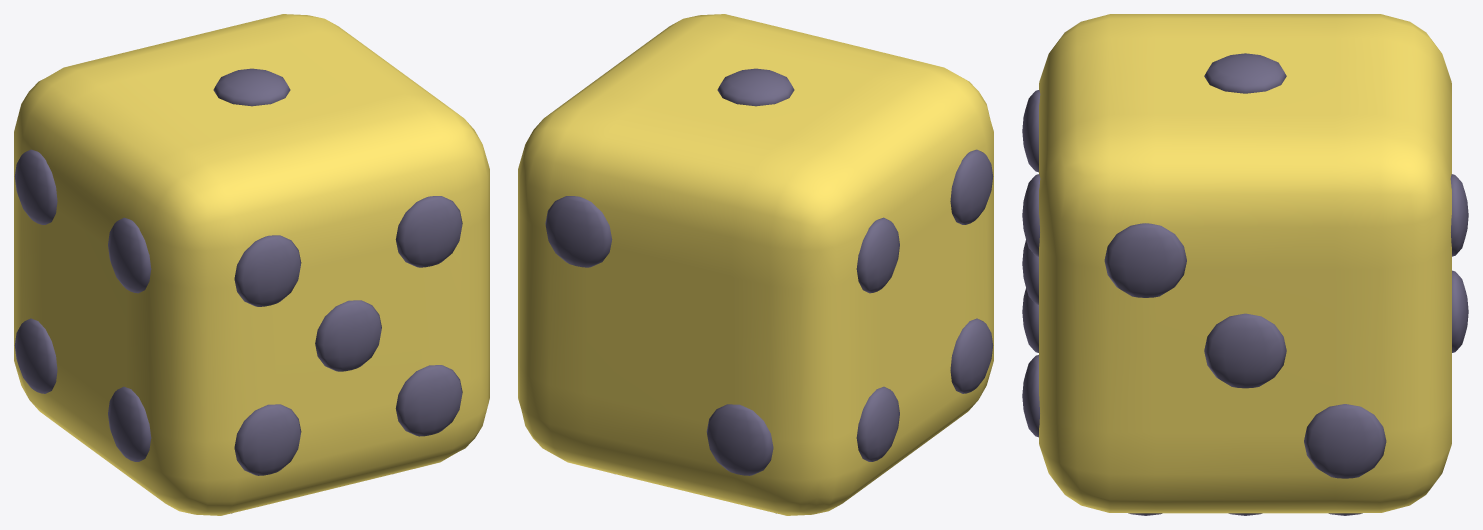
File: DiceDashDie.glb
The picture shows the model from 3 angles, left to right: view 1: azimuth 30°, elevation 25°; view 2: azimuth 150°, elevation 25°; view 3: azimuth 270°, elevation 25°; orthographic projection. The views are drawn at different scales.
Parts seen in each view (by area): view 1: Body, Pips; view 2: Body, Pips; view 3: Body, Pips.
Part boxes in pixels (<box>): Body: <box>14,14,489,515</box>; Pips: <box>14,68,462,513</box>; Body: <box>518,14,993,515</box>; Pips: <box>545,68,993,513</box>; Body: <box>1039,14,1451,513</box>; Pips: <box>1022,53,1468,515</box>.
Bounding box in the file's own units: 3.67 × 3.67 × 3.67.
